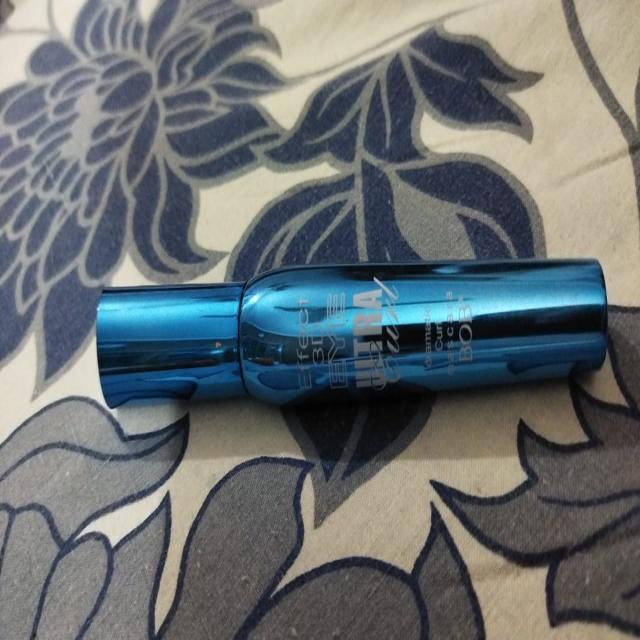mascara: (99, 259, 610, 418)
